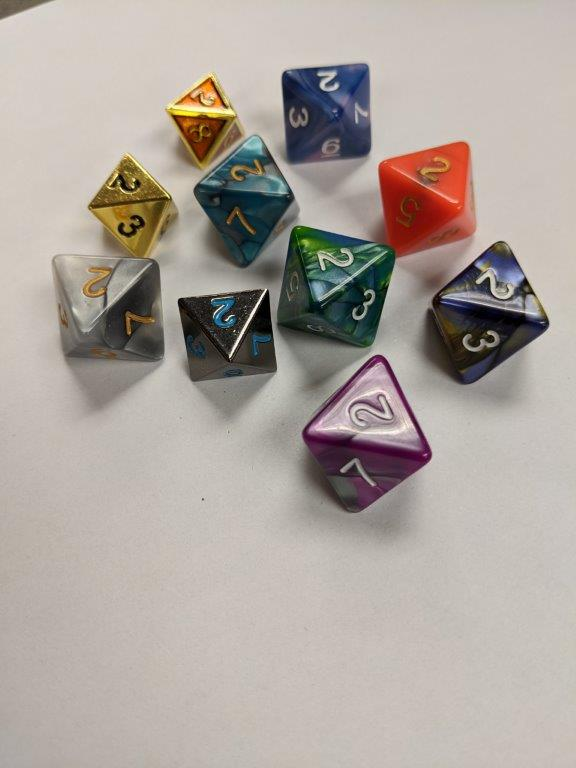d8-2: (304, 356, 433, 511), (431, 243, 551, 384), (279, 222, 398, 347), (195, 134, 295, 268), (53, 249, 166, 364), (376, 140, 475, 259), (87, 154, 179, 261), (282, 58, 371, 164), (178, 290, 276, 382), (165, 73, 246, 171)
